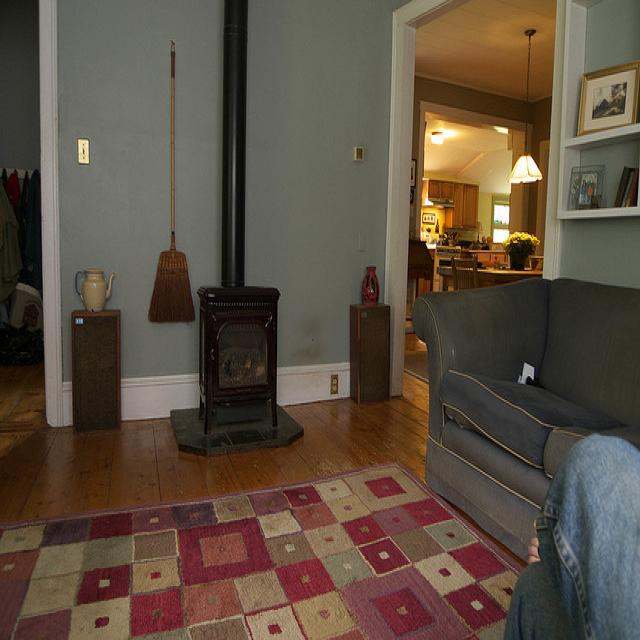book: (621, 171, 634, 207)
chair: (451, 256, 479, 290)
couch: (412, 276, 640, 561)
dining table: (436, 266, 543, 294)
oven: (434, 238, 461, 267)
person: (502, 431, 640, 640)
potted plant: (503, 227, 542, 272)
vase: (362, 265, 380, 306)
